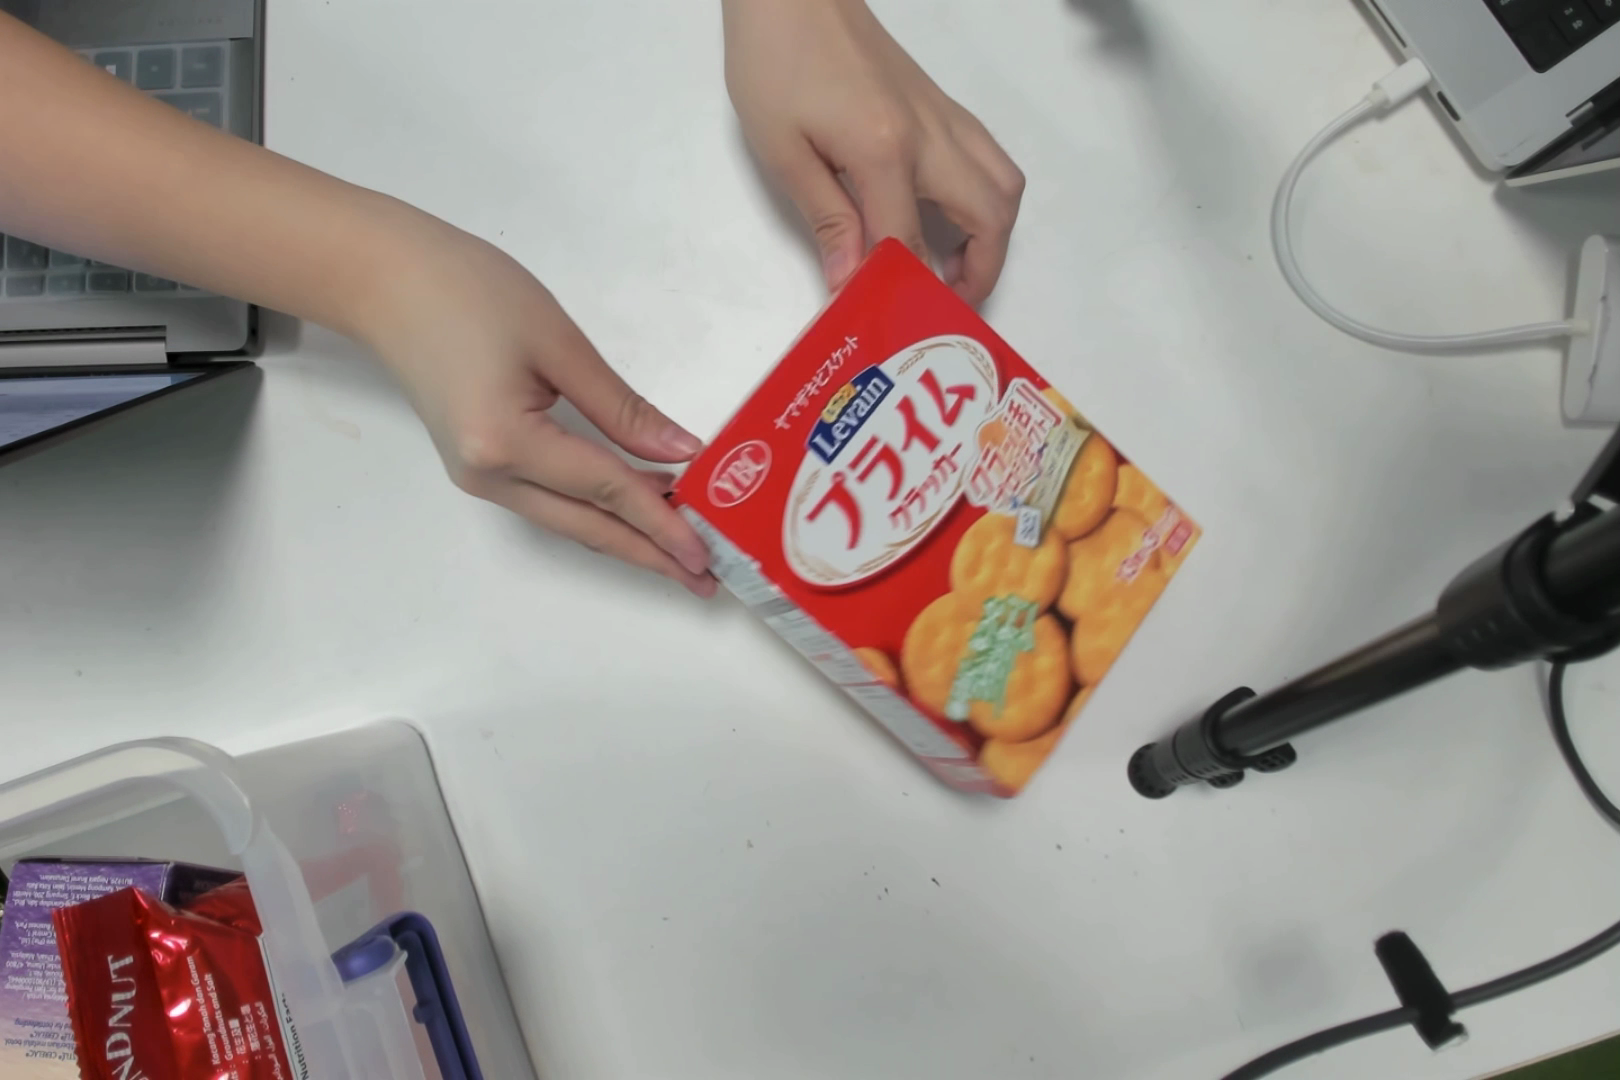d: (695, 319, 1192, 768)
